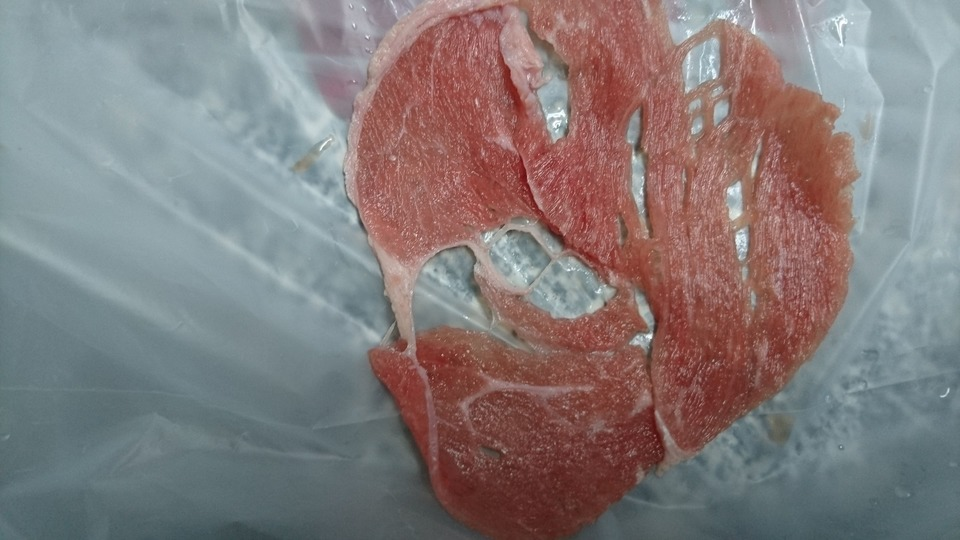restructured meat: (341, 16, 850, 535)
